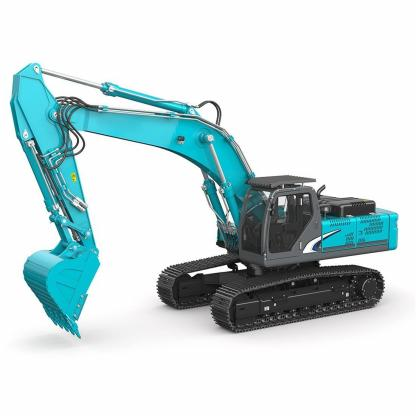excavator: (11, 53, 397, 339)
